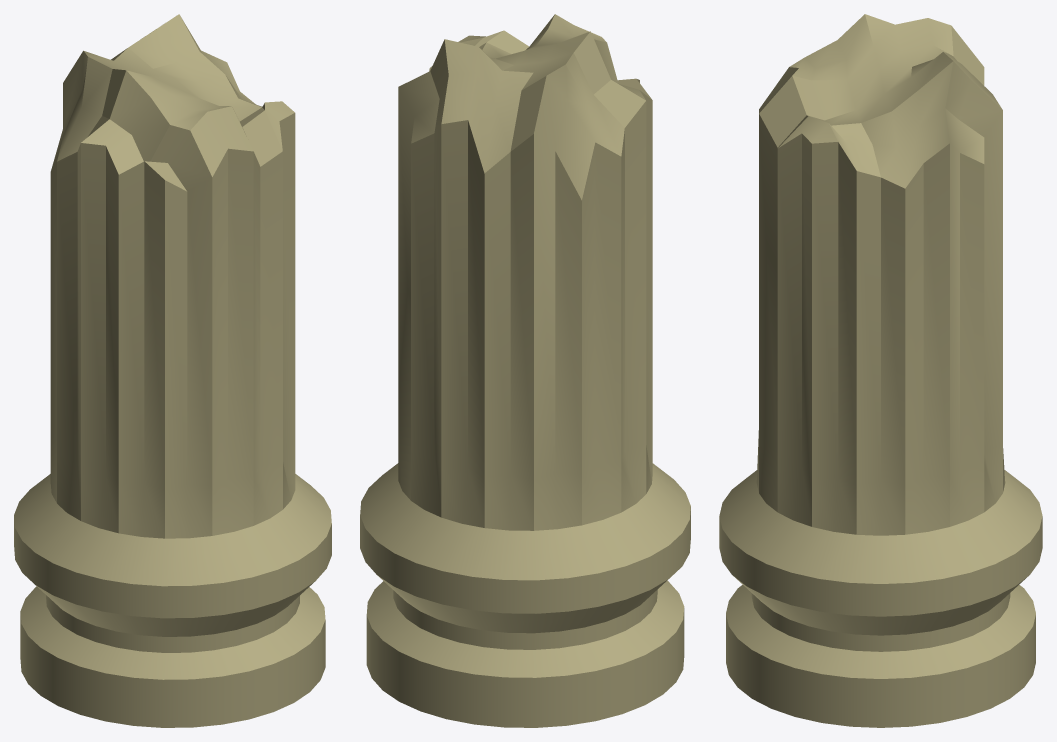
File: column_broken_bottom.fbx
3 renders of one model, left to right at view 1: azimuth 30°, elevation 25°; view 2: azimuth 150°, elevation 25°; view 3: azimuth 270°, elevation 25°, orthographic. The views are drawn at different scales.
Visible parts, largest first — view 1: Column_Broken_Bottom; view 2: Column_Broken_Bottom; view 3: Column_Broken_Bottom.
Boxes of the visible parts, x1,y1,x2,y2 form: Column_Broken_Bottom: (14,14,331,727); Column_Broken_Bottom: (360,14,690,727); Column_Broken_Bottom: (719,14,1042,727).
Bounding box in the file's own units: 154 × 327 × 154.
